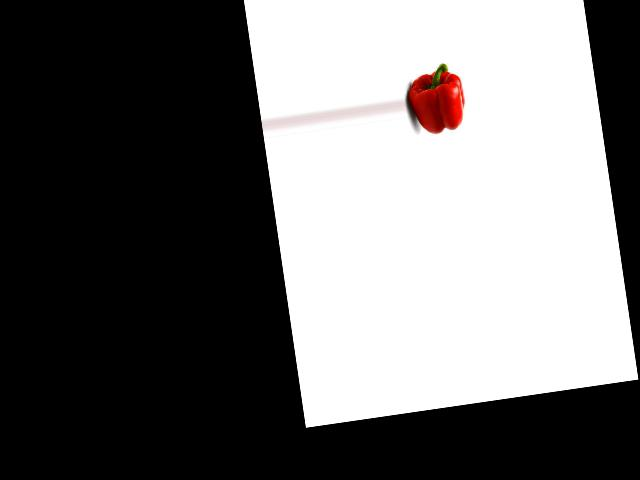bell_pepper: (405, 57, 469, 142)
